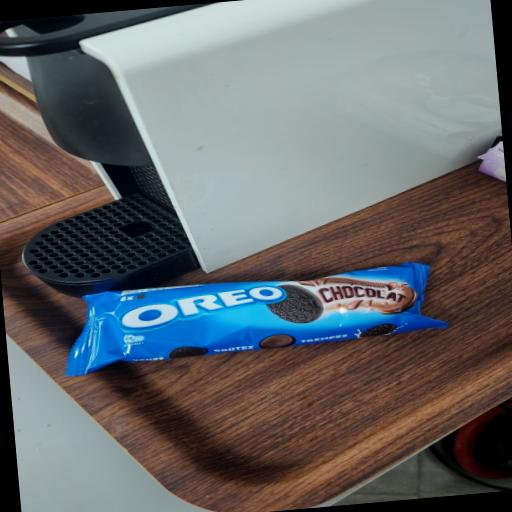oreo: (27, 201, 494, 408)
